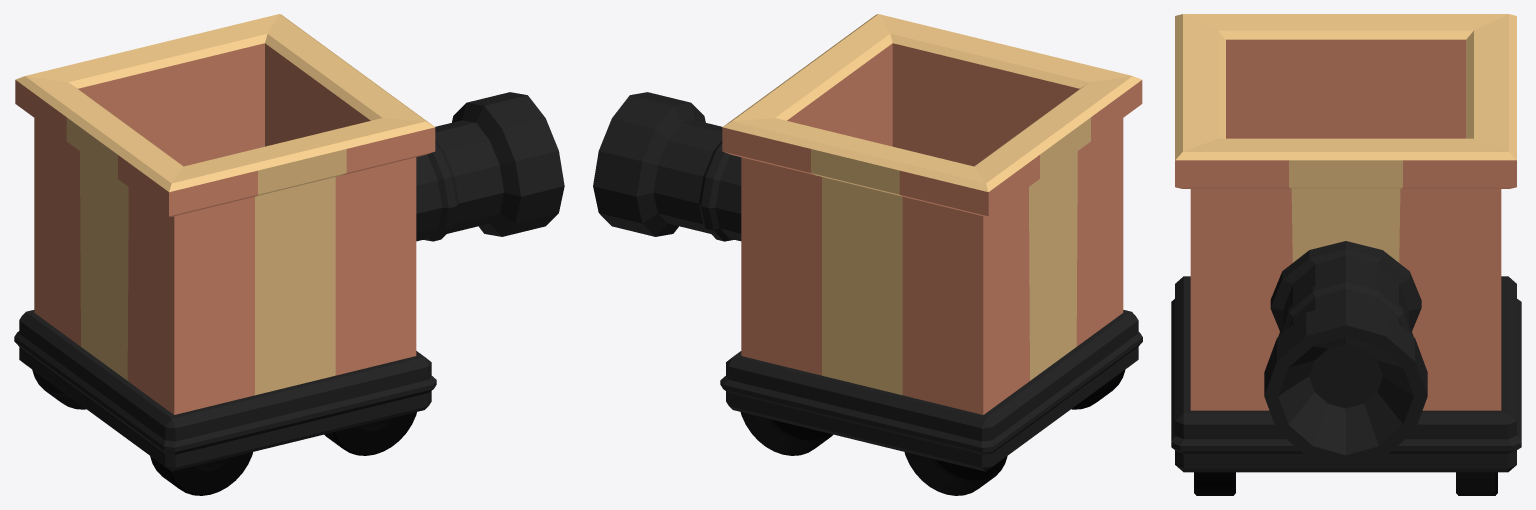
The model's file is rockettank.fbx.
3 renders of one model, left to right at view 1: azimuth 30°, elevation 25°; view 2: azimuth 150°, elevation 25°; view 3: azimuth 270°, elevation 25°, orthographic. The views are drawn at different scales.
Visible parts, largest first — view 1: box, revolver, cannon, wheels; view 2: box, revolver, cannon, wheels; view 3: box, cannon, revolver, wheels.
Part boxes in pixels (x1=…): box: x1=15, y1=14, x2=435, y2=414; revolver: x1=14, y1=310, x2=436, y2=471; cannon: x1=416, y1=92, x2=564, y2=241; wheels: x1=32, y1=369, x2=416, y2=495; box: x1=722, y1=14, x2=1142, y2=414; revolver: x1=720, y1=310, x2=1142, y2=471; cannon: x1=593, y1=92, x2=741, y2=241; wheels: x1=740, y1=369, x2=1125, y2=495; box: x1=1175, y1=14, x2=1516, y2=410; cannon: x1=1264, y1=241, x2=1427, y2=467; revolver: x1=1171, y1=276, x2=1521, y2=472; wheels: x1=1194, y1=472, x2=1497, y2=495.
Size of the model in its own units: 1177 by 838 by 733.
